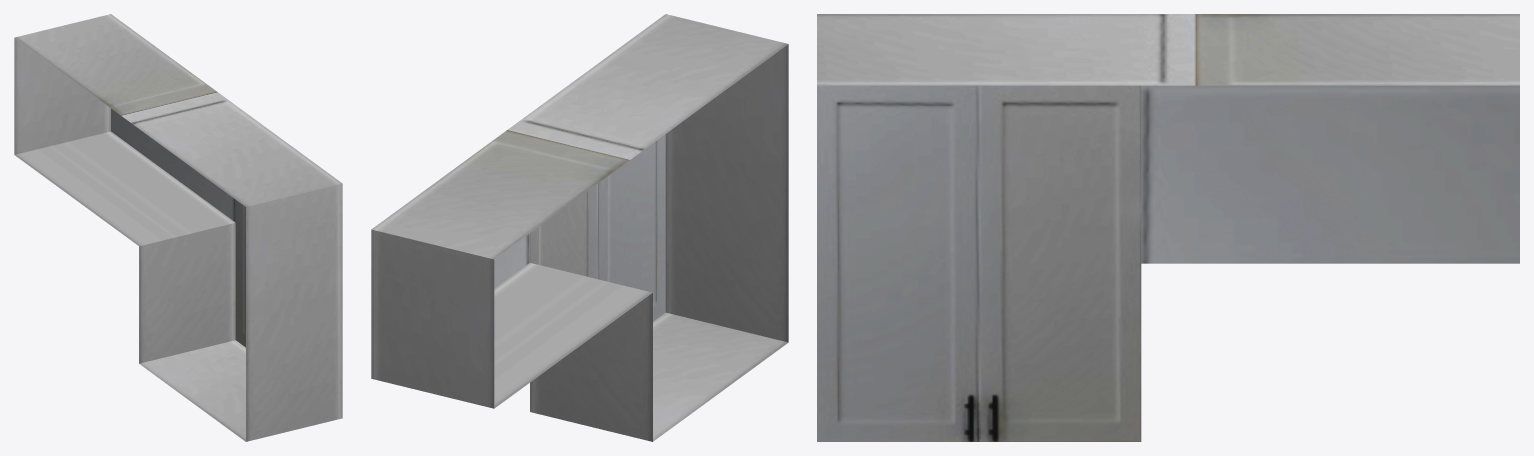
File: Cupboard_01_002-col.glb
3 renders of one model, left to right at view 1: azimuth 30°, elevation 25°; view 2: azimuth 150°, elevation 25°; view 3: azimuth 270°, elevation 25°, orthographic. The views are drawn at different scales.
Visible parts, largest first — view 1: Cupboard_01.002-col; view 2: Cupboard_01.002-col; view 3: Cupboard_01.002-col.
Boxes of the visible parts, x1,y1,x2,y2 form: Cupboard_01.002-col: (14,14,342,441); Cupboard_01.002-col: (371,14,788,441); Cupboard_01.002-col: (817,14,1519,441).
Bounding box in the file's own units: 1.21 × 2.81 × 5.03.
Materials: 1 (1 with a texture image).
